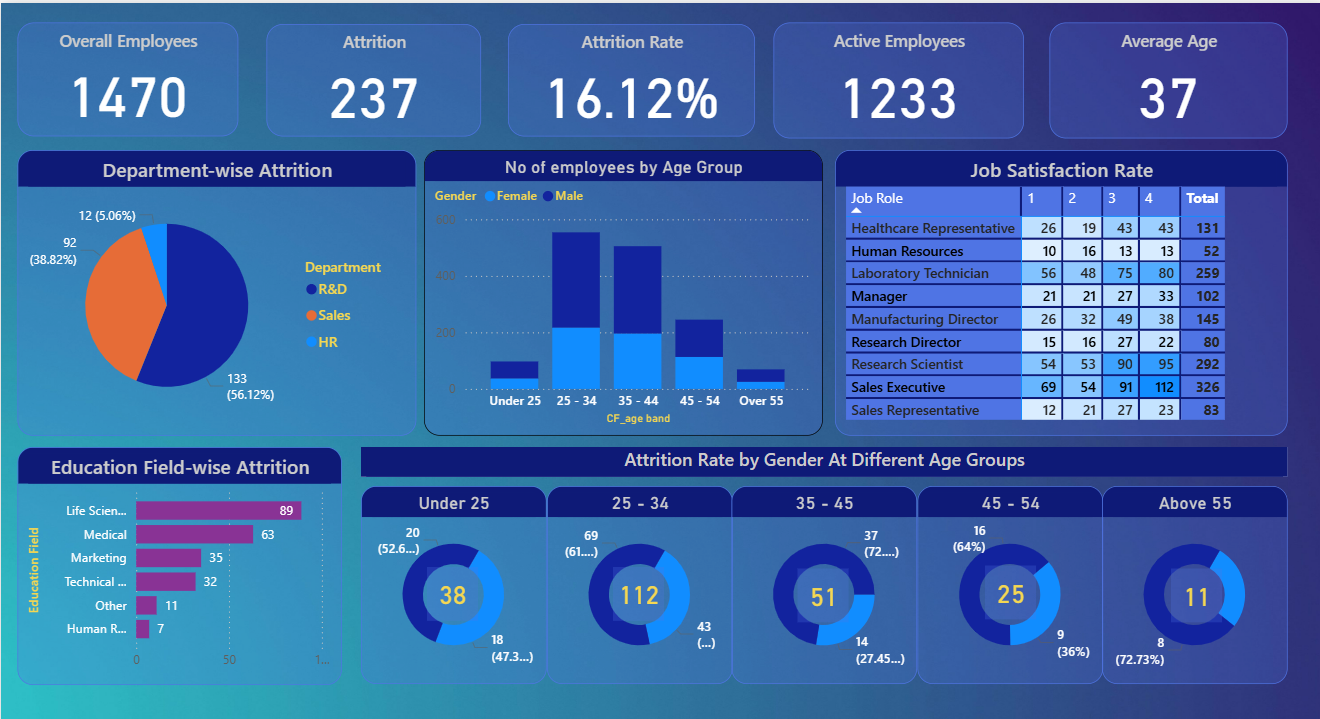

This screenshot's page, from the dashboard's own definition file:
{"tool":"powerbi","page":{"name":"Page 1","canvas":[1280,720],"ordinal":0},"visuals":[{"type":"card","title":"Overall Employees","fields":{"Values":["Sum(HR Data xlsx - HR data.Employee Count)"]},"box":[15.9,18.8,213,110.1],"z":0},{"type":"card","title":"Attrition","fields":{"Values":["Sum(HR Data xlsx - HR data.Attrition count)"]},"box":[256.7,20.9,207.5,109],"z":1000},{"type":"card","title":"Attrition Rate","fields":{"Values":["HR Data xlsx - HR data.Attrition Rate"]},"box":[489.6,20.9,238.8,109],"z":2000},{"type":"card","title":"Active Employees","fields":{"Values":["HR Data xlsx - HR data.Active Employee"]},"box":[746.3,19.4,241.8,111.9],"z":3000},{"type":"card","title":"Average Age","fields":{"Values":["Avg(HR Data xlsx - HR data.Age)"]},"box":[1013.4,19.4,229.9,111.9],"z":4000},{"type":"pieChart","title":"Department-wise Attrition","fields":{"Category":["HR Data xlsx - HR data.Department"],"Y":["Sum(HR Data xlsx - HR data.Attrition count)"]},"box":[16.4,141.8,385.1,276.1],"z":5000},{"type":"columnChart","title":"No of employees by Age Group","fields":{"Category":["HR Data xlsx - HR data.CF_age band"],"Y":["Sum(HR Data xlsx - HR data.Employee Count)"],"Series":["HR Data xlsx - HR data.Gender"]},"box":[409,141.8,385.1,276.1],"z":6000},{"type":"pivotTable","title":"Job Satisfaction Rate","fields":{"Rows":["HR Data xlsx - HR data.Job Role"],"Columns":["HR Data xlsx - HR data.Job Satisfaction"],"Values":["Sum(HR Data xlsx - HR data.Employee Count)"]},"box":[806,141.8,437.3,276.1],"z":7000},{"type":"barChart","title":"Education Field-wise Attrition","fields":{"Category":["HR Data xlsx - HR data.Education Field"],"Y":["Sum(HR Data xlsx - HR data.Attrition count)"]},"box":[16.4,428.4,313.4,229.9],"z":8000},{"type":"donutChart","title":"Under 25","fields":{"Y":["Sum(HR Data xlsx - HR data.Attrition count)"],"Category":["HR Data xlsx - HR data.Gender"],"Series":["HR Data xlsx - HR data.CF_age band"]},"box":[347.8,467.2,179.1,191],"z":9000},{"type":"textbox","title":"Attrition Rate by Gender At Different Age Groups","box":[347.8,428.4,895.5,28.4],"z":10000},{"type":"donutChart","title":"25 - 34","fields":{"Y":["Sum(HR Data xlsx - HR data.Attrition count)"],"Category":["HR Data xlsx - HR data.Gender"],"Series":["HR Data xlsx - HR data.CF_age band"]},"box":[526.9,467.2,179.1,191],"z":11000},{"type":"donutChart","title":"35 - 45","fields":{"Y":["Sum(HR Data xlsx - HR data.Attrition count)"],"Category":["HR Data xlsx - HR data.Gender"],"Series":["HR Data xlsx - HR data.CF_age band"]},"box":[706,467.2,179.1,191],"z":12000},{"type":"donutChart","title":"45 - 54","fields":{"Y":["Sum(HR Data xlsx - HR data.Attrition count)"],"Category":["HR Data xlsx - HR data.Gender"],"Series":["HR Data xlsx - HR data.CF_age band"]},"box":[885.1,467.2,179.1,191],"z":13000},{"type":"donutChart","title":"Above 55","fields":{"Y":["Sum(HR Data xlsx - HR data.Attrition count)"],"Category":["HR Data xlsx - HR data.Gender"],"Series":["HR Data xlsx - HR data.CF_age band"]},"box":[1064.2,467.2,179.1,191],"z":14000},{"type":"card","fields":{"Values":["Sum(HR Data xlsx - HR data.Attrition count)"]},"box":[411.9,544.8,49.3,52.2],"z":15000},{"type":"card","fields":{"Values":["Sum(HR Data xlsx - HR data.Attrition count)"]},"box":[950.7,543.3,49.3,52.2],"z":15001},{"type":"card","fields":{"Values":["Sum(HR Data xlsx - HR data.Attrition count)"]},"box":[770.1,546.3,49.3,52.2],"z":15002},{"type":"card","fields":{"Values":["Sum(HR Data xlsx - HR data.Attrition count)"]},"box":[591,544.8,49.3,52.2],"z":15003},{"type":"card","fields":{"Values":["Sum(HR Data xlsx - HR data.Attrition count)"]},"box":[1129.9,546.3,49.3,52.2],"z":15004}]}

Visuals, with their boxes on the page's 1280x720 design canvas (x1, y1, x2, y2). These are canvas units, not pixel positions in the 1320x719 screenshot, which may show the page scaled, cropped or inside an application window:
"Overall Employees" card: [left=16, top=19, right=229, bottom=129]
"Attrition" card: [left=257, top=21, right=464, bottom=130]
"Attrition Rate" card: [left=490, top=21, right=728, bottom=130]
"Active Employees" card: [left=746, top=19, right=988, bottom=131]
"Average Age" card: [left=1013, top=19, right=1243, bottom=131]
"Department-wise Attrition" pieChart: [left=16, top=142, right=402, bottom=418]
"No of employees by Age Group" columnChart: [left=409, top=142, right=794, bottom=418]
"Job Satisfaction Rate" pivotTable: [left=806, top=142, right=1243, bottom=418]
"Education Field-wise Attrition" barChart: [left=16, top=428, right=330, bottom=658]
"Under 25" donutChart: [left=348, top=467, right=527, bottom=658]
"Attrition Rate by Gender At Different Age Groups" textbox: [left=348, top=428, right=1243, bottom=457]
"25 - 34" donutChart: [left=527, top=467, right=706, bottom=658]
"35 - 45" donutChart: [left=706, top=467, right=885, bottom=658]
"45 - 54" donutChart: [left=885, top=467, right=1064, bottom=658]
"Above 55" donutChart: [left=1064, top=467, right=1243, bottom=658]
card - Sum(HR Data xlsx - HR data.Attrition count): [left=412, top=545, right=461, bottom=597]
card - Sum(HR Data xlsx - HR data.Attrition count): [left=951, top=543, right=1000, bottom=596]
card - Sum(HR Data xlsx - HR data.Attrition count): [left=770, top=546, right=819, bottom=598]
card - Sum(HR Data xlsx - HR data.Attrition count): [left=591, top=545, right=640, bottom=597]
card - Sum(HR Data xlsx - HR data.Attrition count): [left=1130, top=546, right=1179, bottom=598]
